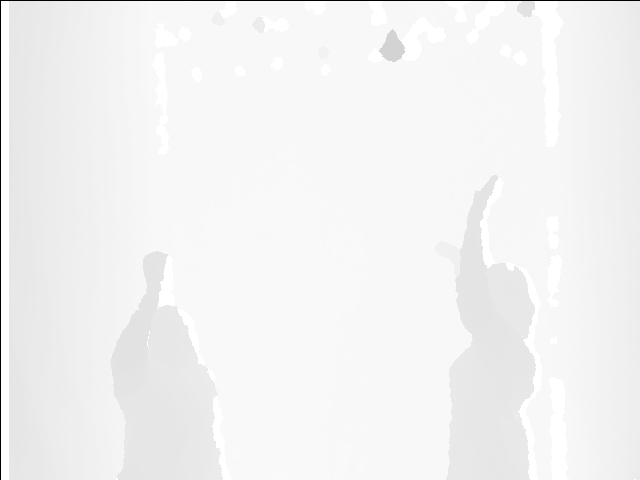hand: (471, 168, 502, 217), (143, 250, 170, 292), (434, 226, 458, 270)
